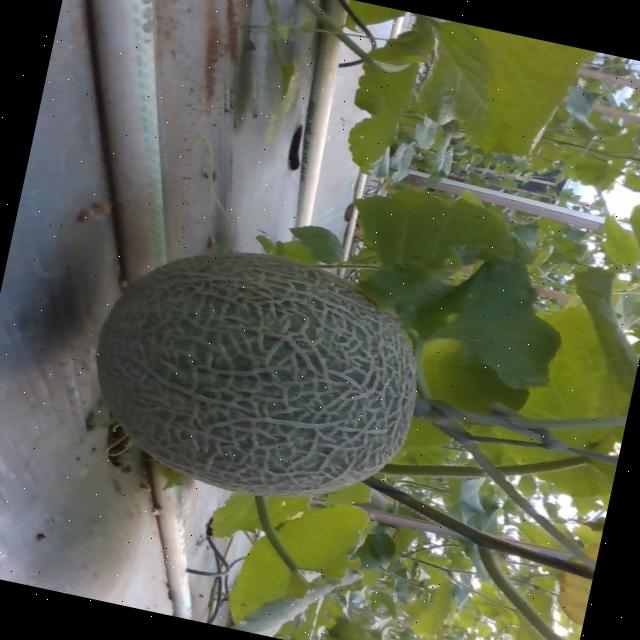melon: (97, 254, 414, 496)
